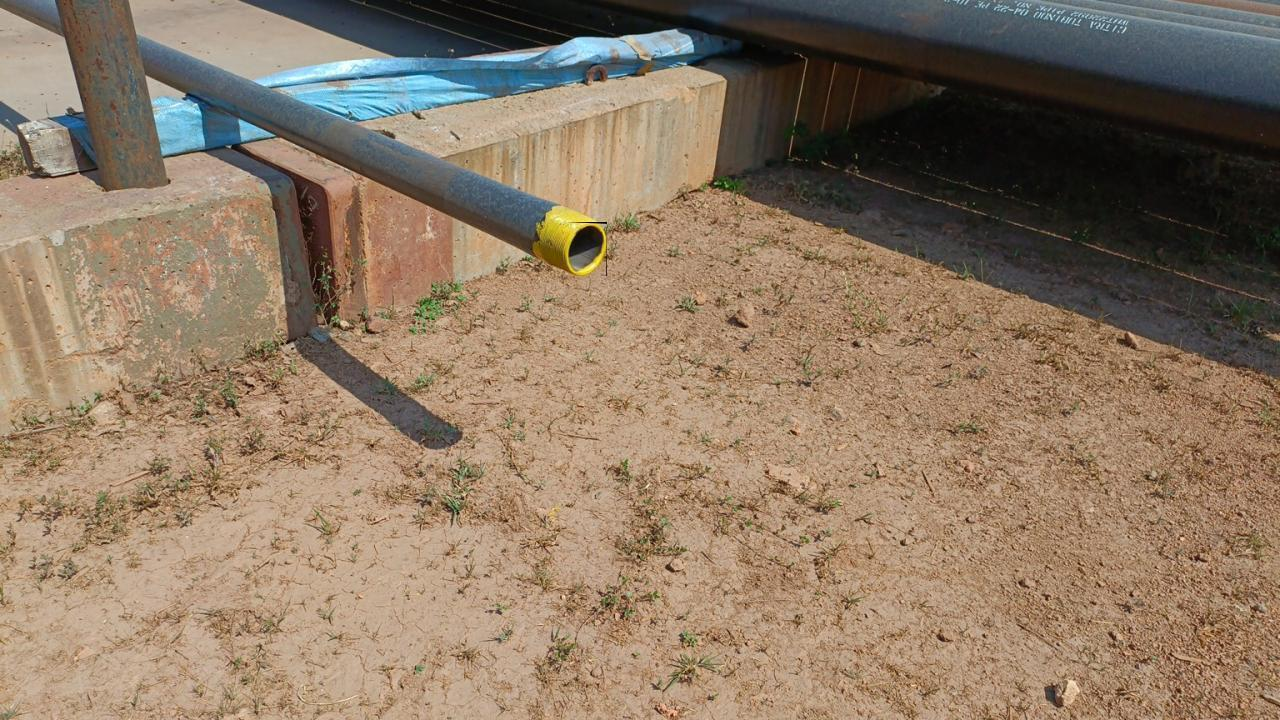pipe: (565, 222, 607, 276)
